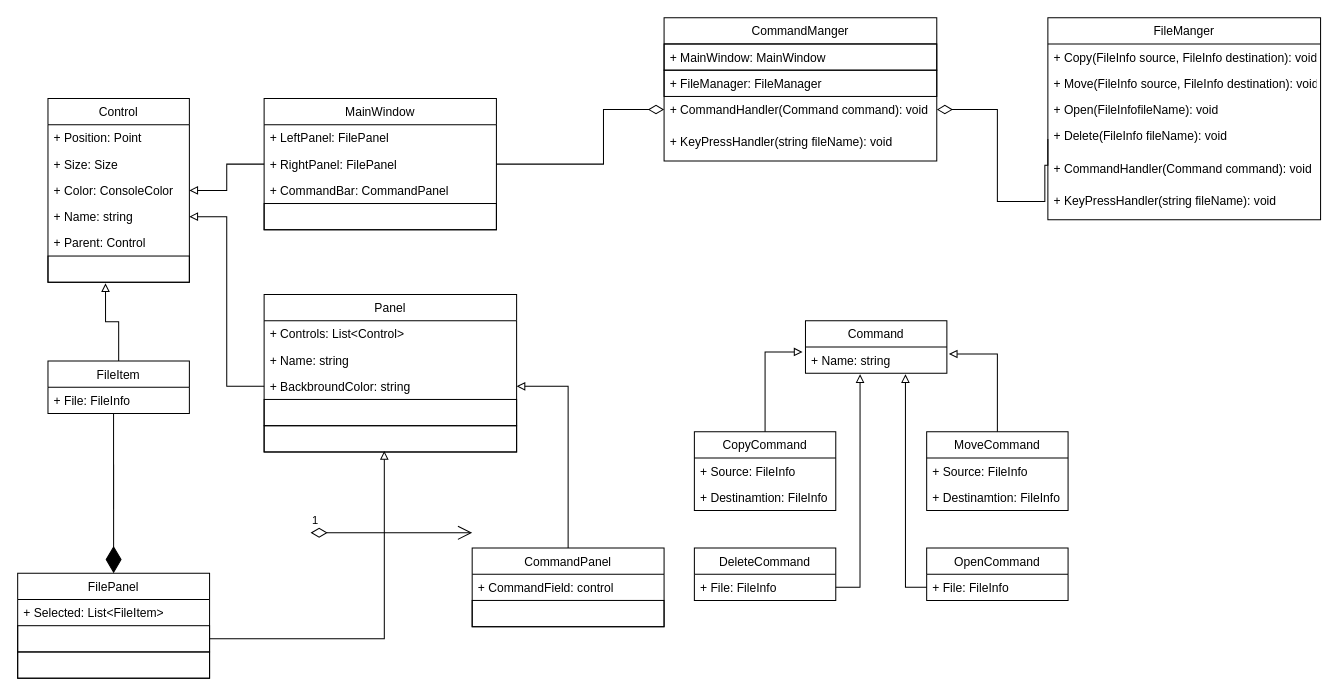
This 1338x699 diagram has some shape labels left out. Each missing label, with the centre of its shape:
"+ AddControl(): void" goes at point 390,412.
"+ DeleteControl(): void" goes at point 390,438.
"+ Deselect(FileItem item): void" goes at point 113,664.
"+ Draw(): void" goes at point 118,268.
"+ event OnCommnad(): Command" goes at point 567,613.
"+ Focus(Panel control): void" goes at point 379,216.
"+ Select(FileItem item): void" goes at point 113,638.
